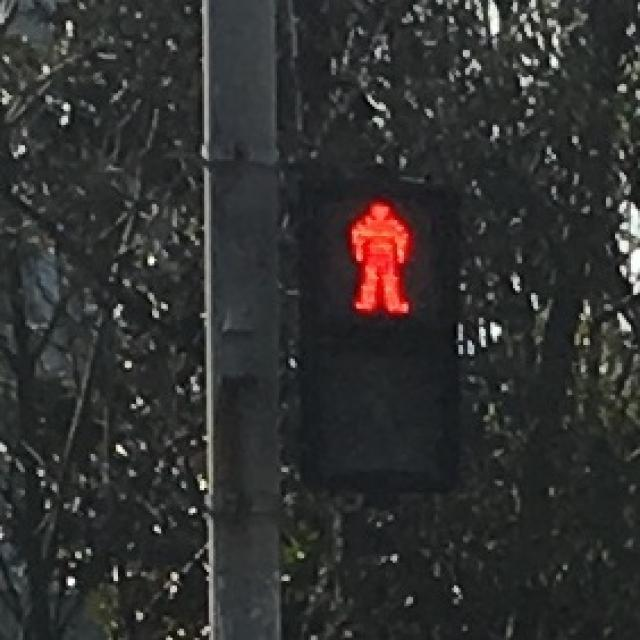red-crossing: (320, 186, 436, 320)
